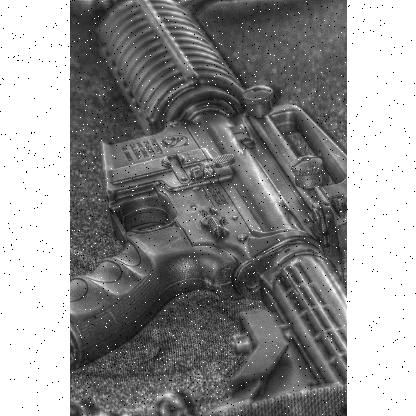gun: (69, 1, 327, 372)
